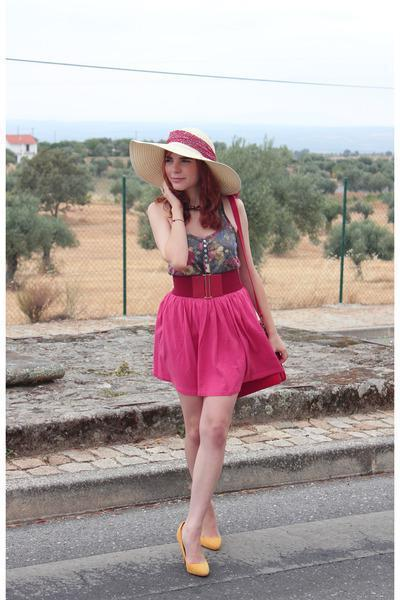skirt: (138, 288, 292, 400)
vest: (158, 193, 243, 278)
